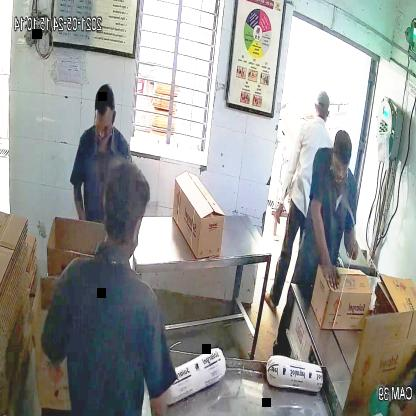goggles: (92, 107, 118, 136), (330, 156, 354, 176)
